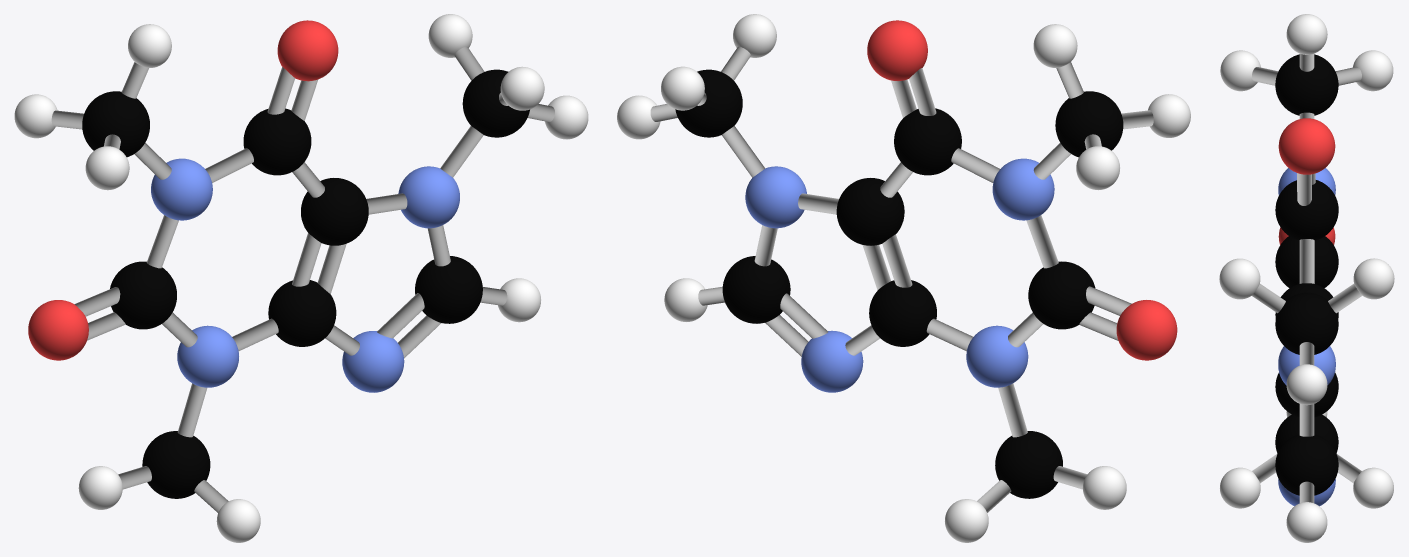
Rendered from template.gltf.
3 views of the same model, side by side, from view 1: azimuth 30°, elevation 25°; view 2: azimuth 150°, elevation 25°; view 3: azimuth 270°, elevation 25° (orthographic). The views are drawn at different scales.
Parts seen in each view (by area): view 1: MolView.mol; view 2: MolView.mol; view 3: MolView.mol.
Part boxes in pixels (x1,y1,x2,y2): MolView.mol: (14,14,588,542); MolView.mol: (617,14,1190,542); MolView.mol: (1219,14,1394,542).
Bounding box in the file's own units: 7.98 × 6.91 × 2.35.
